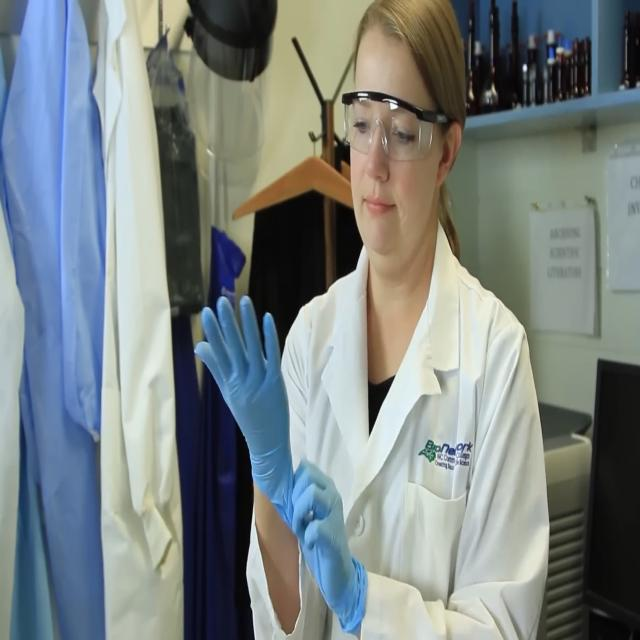googles: (339, 88, 459, 167)
labcoat: (242, 214, 554, 640), (0, 0, 110, 640), (96, 0, 188, 640), (0, 189, 27, 640)
